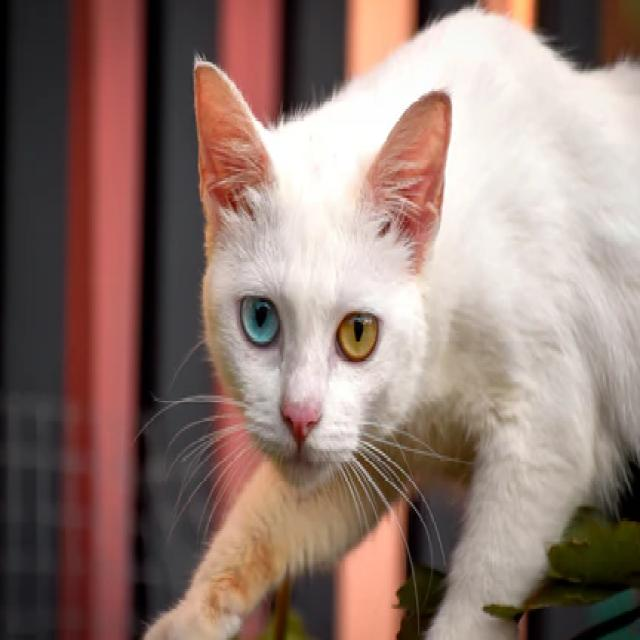Khao Manee: (129, 0, 640, 640)
